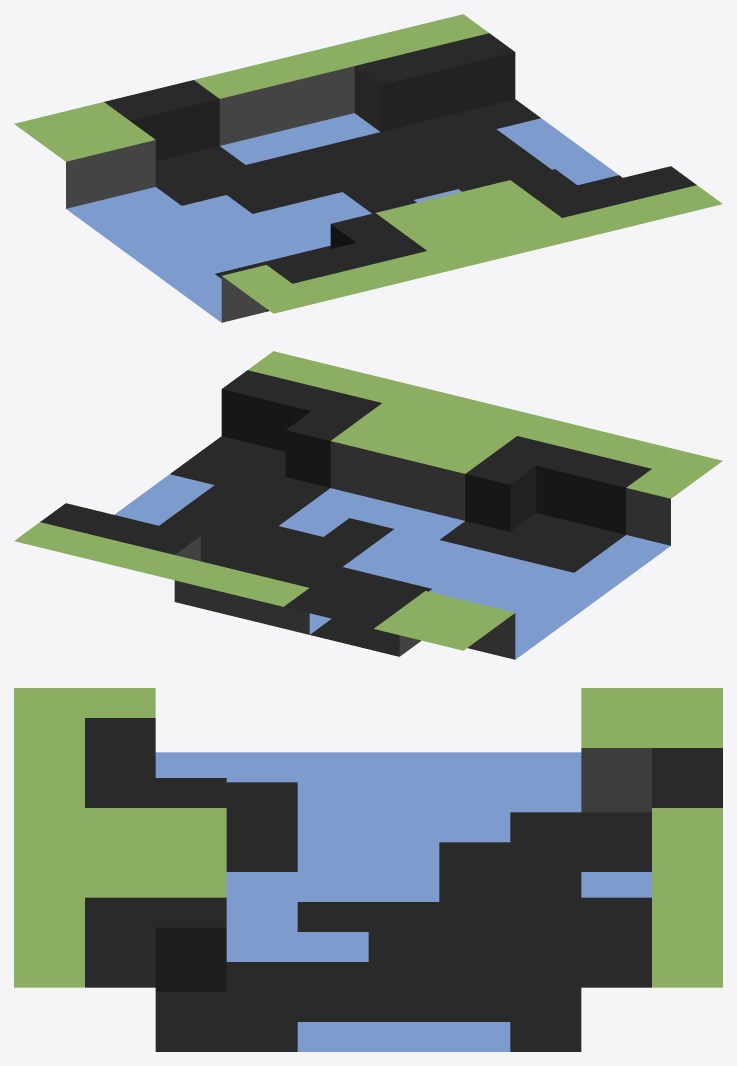
File: terrain_river_polluted_3.fbx
3 renders of one model, top to bottom at view 1: azimuth 30°, elevation 25°; view 2: azimuth 150°, elevation 25°; view 3: azimuth 270°, elevation 25°, orthographic. The views are drawn at different scales.
Parts seen in each view (by area): view 1: Grid.079; view 2: Grid.079; view 3: Grid.079.
Boxes of the visible parts, x1,y1,x2,y2 form: Grid.079: (14, 14, 722, 322); Grid.079: (14, 351, 722, 659); Grid.079: (14, 688, 722, 1051).
Size of the model in its own units: 200 by 20 by 200.
